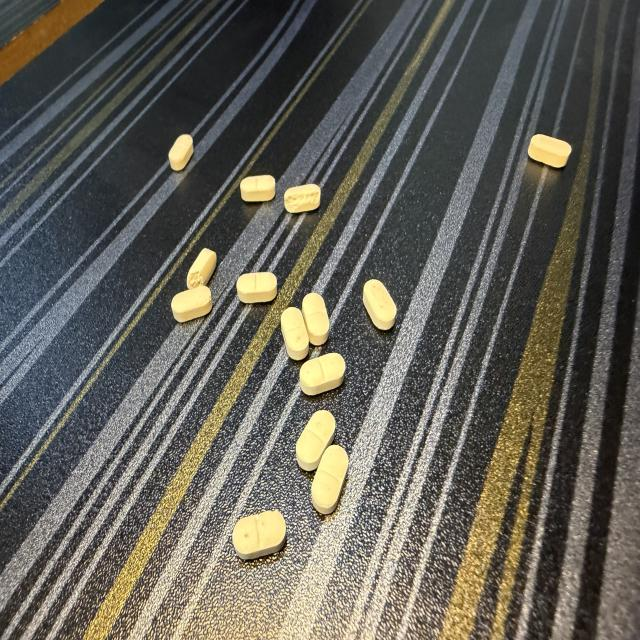pill: (311, 445, 348, 514), (233, 511, 286, 559), (296, 410, 335, 470), (300, 353, 345, 395), (363, 280, 396, 329), (528, 134, 571, 167), (281, 307, 308, 359), (302, 293, 329, 345), (172, 286, 211, 322), (237, 272, 277, 303), (187, 249, 216, 289), (284, 185, 320, 213), (168, 134, 194, 171), (240, 175, 275, 201)
